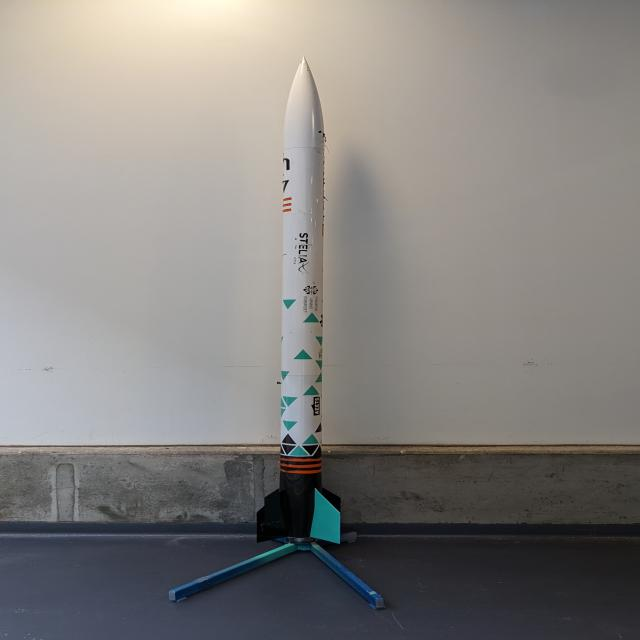Rocket: (257, 56, 341, 544)
